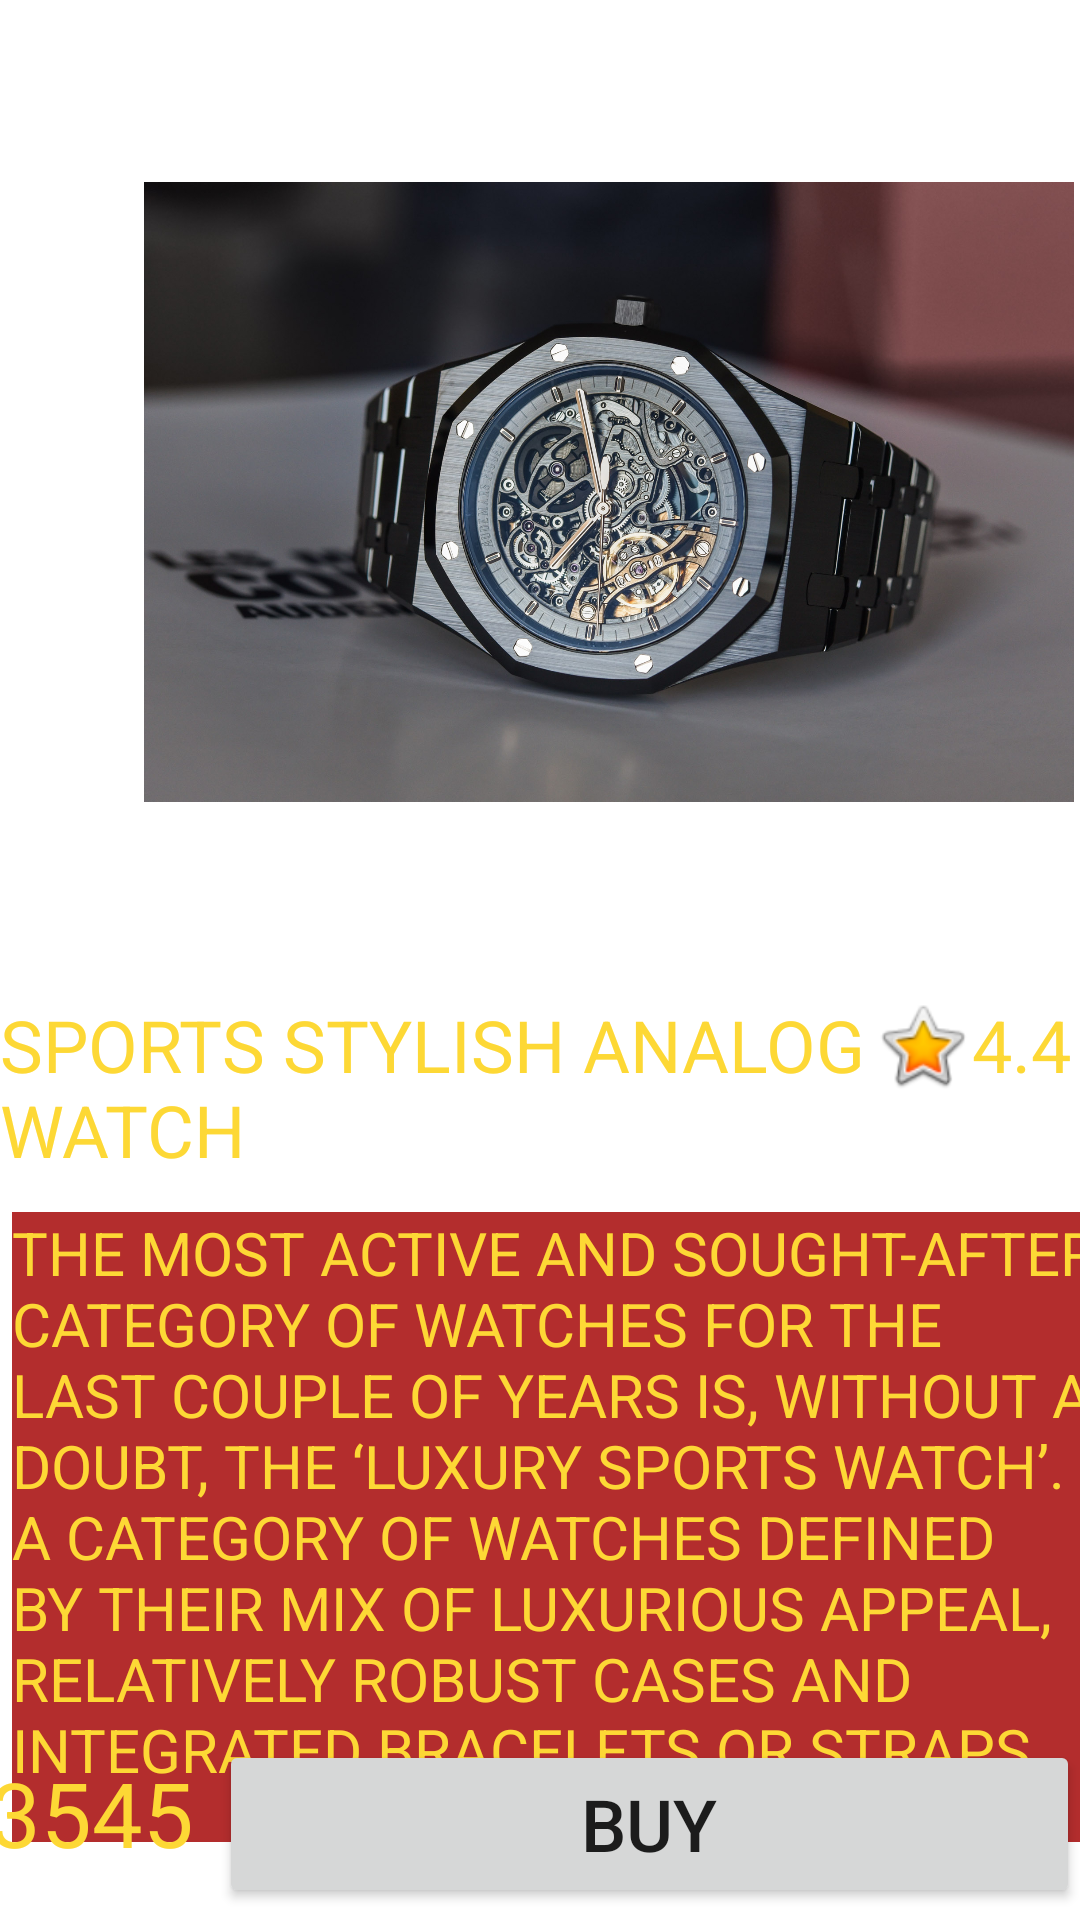

Where icons sit on this 1080×1920 app screen, as [x1, y1, x2, y2]:
star on: [882, 1006, 965, 1087]
